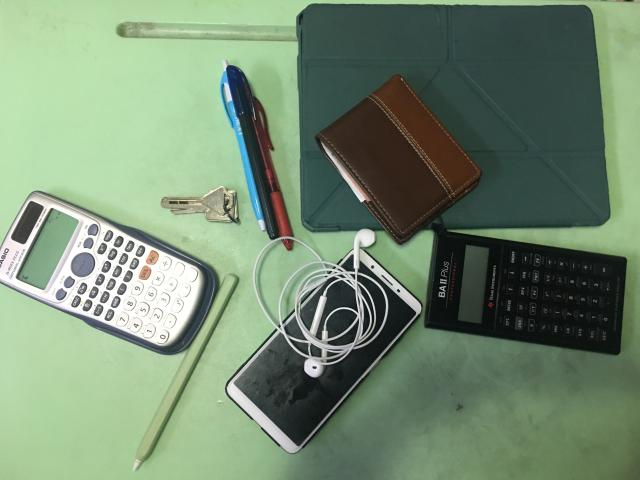Keys: (161, 186, 238, 222)
Mobile phone: (227, 245, 423, 453)
Pen: (221, 61, 292, 239)
Wallet: (315, 75, 481, 244)
wire: (252, 230, 389, 379)
